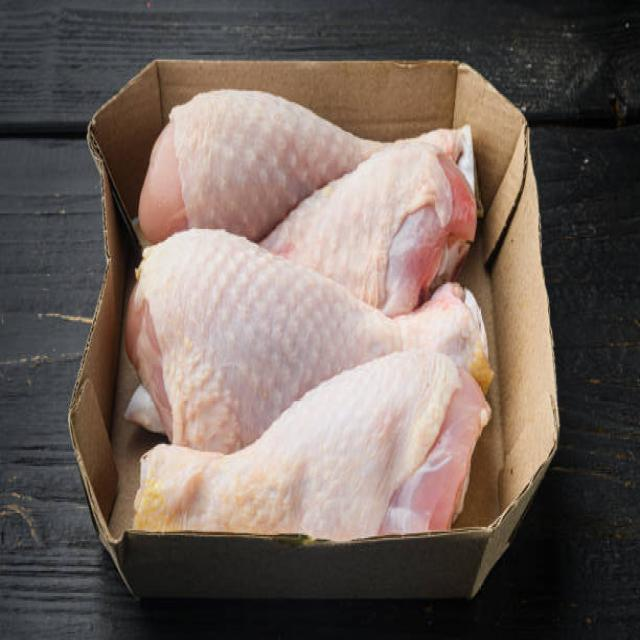Chicken: (124, 230, 482, 422), (128, 352, 492, 536)
